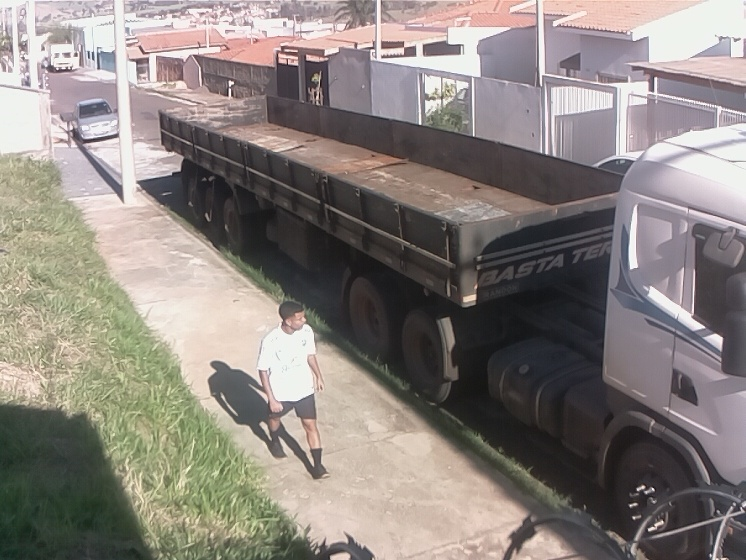person: (255, 299, 334, 481)
